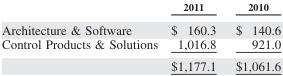table: (1, 0, 280, 72)
table column: (1, 0, 163, 72), (163, 0, 225, 72), (225, 0, 280, 72)
table column header: (1, 0, 280, 17)
table row: (1, 17, 280, 36), (1, 36, 280, 54), (1, 54, 280, 72), (1, 0, 280, 17)
